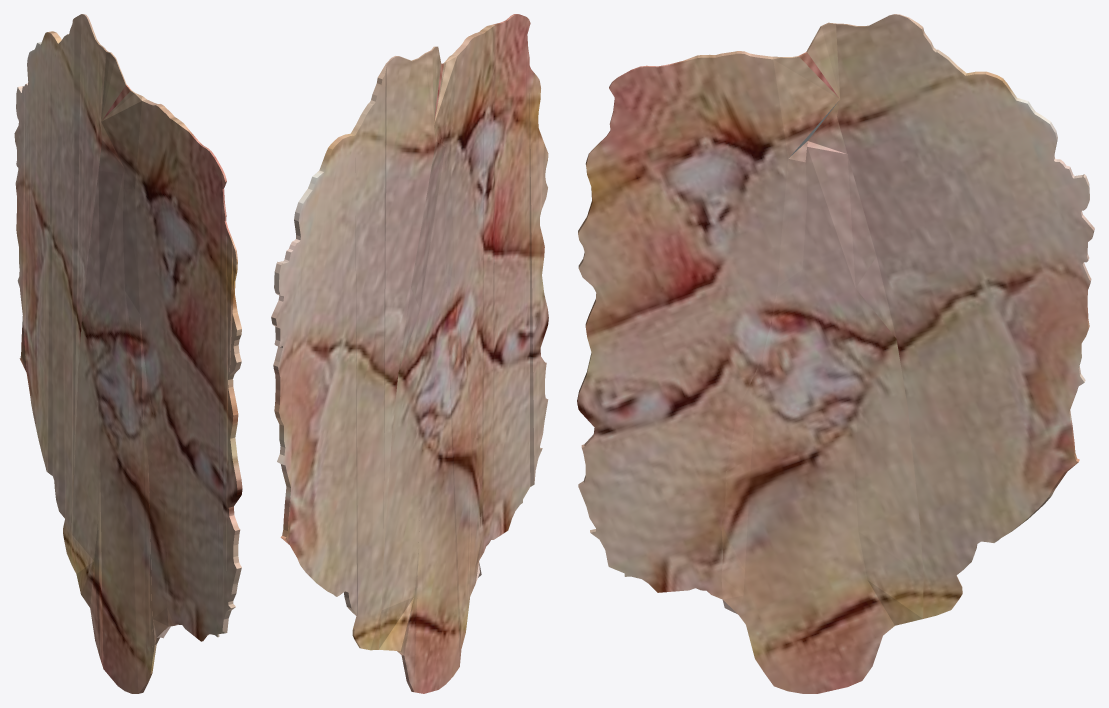
Rendered from China+Cabbage+Leaf.fbx.
3 views of the same model, side by side, from view 1: azimuth 30°, elevation 25°; view 2: azimuth 150°, elevation 25°; view 3: azimuth 270°, elevation 25° (orthographic). The views are drawn at different scales.
Parts seen in each view (by area): view 1: Model; view 2: Model; view 3: Model.
Boxes of the visible parts, x1=… form: Model: x1=14, y1=14, x2=242, y2=693; Model: x1=271, y1=14, x2=548, y2=693; Model: x1=577, y1=14, x2=1094, y2=693.
Bounding box in the file's own units: 22.47 × 353 × 244.
